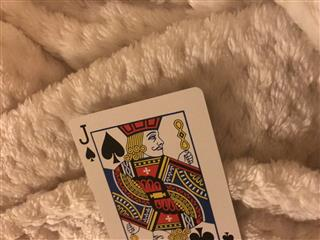JackOfSpades: (67, 85, 241, 240)
